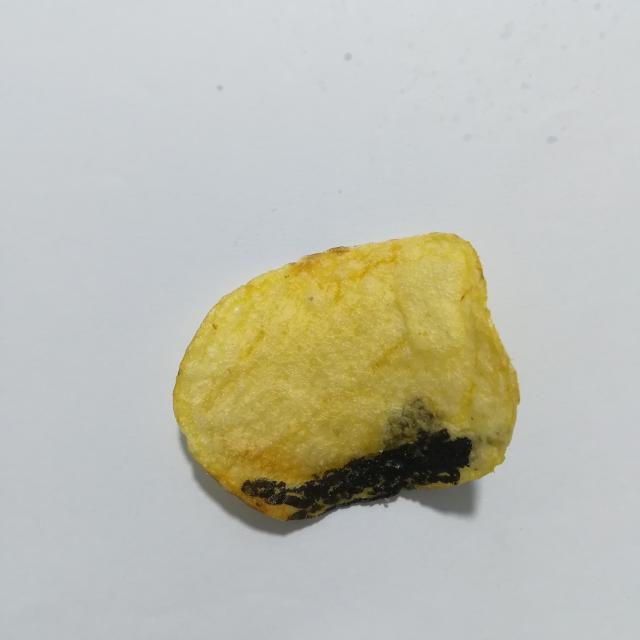chip: (173, 233, 519, 520)
damaged: (241, 429, 472, 519)
semi-damaged: (383, 398, 444, 450)
